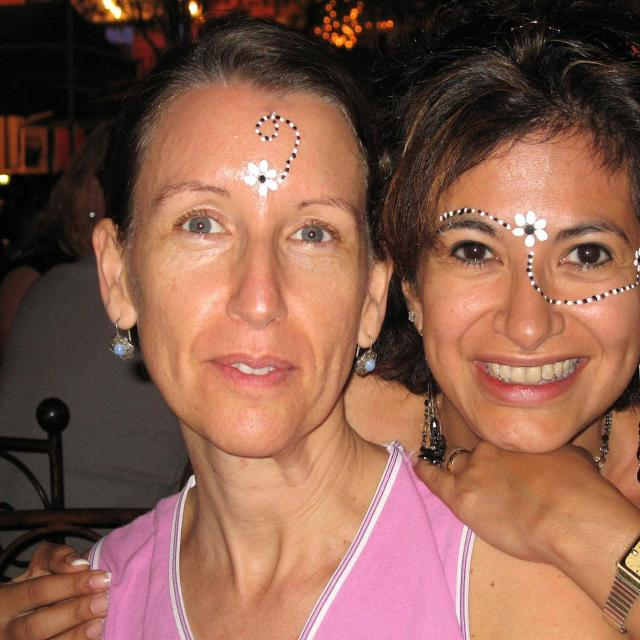no-glass: (170, 205, 336, 249), (441, 240, 620, 278)
